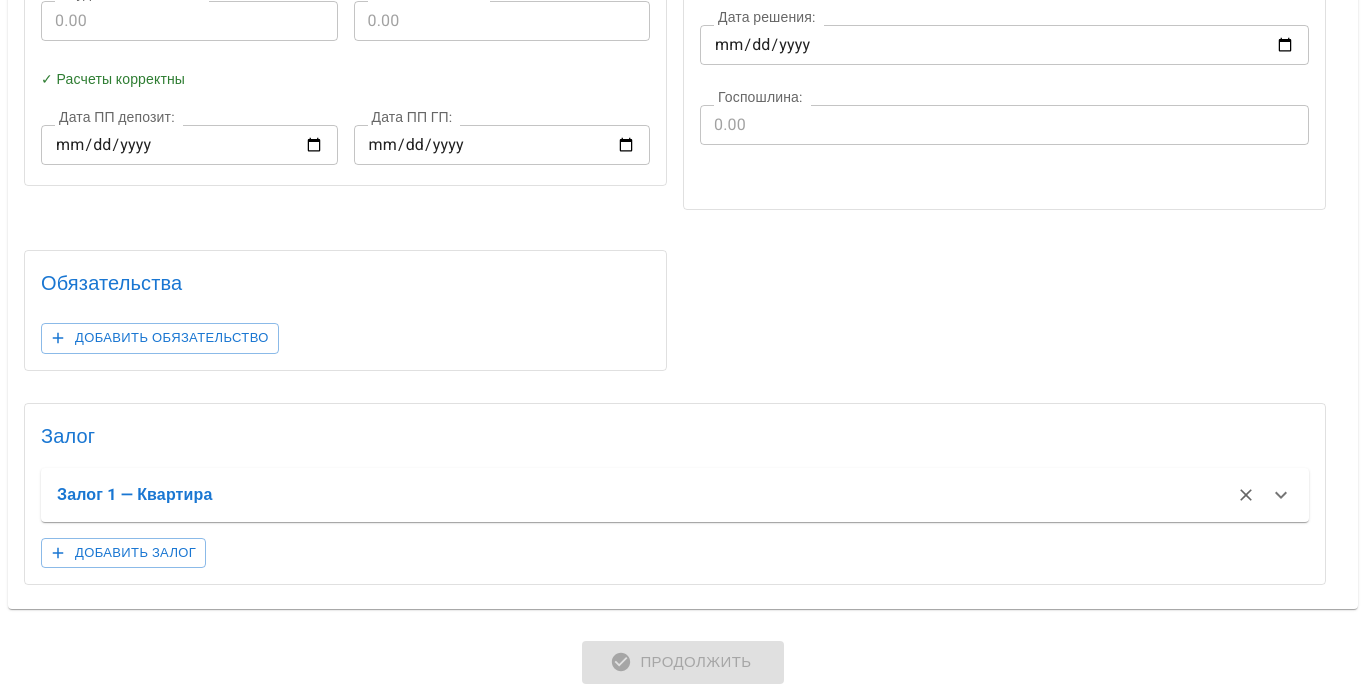
Test case: залоговый акт принятия идёт за составом залога › удаление последней карточки возвращает «Без залога» и снимает залоговый акт
The image size is (1366, 684).
(page scrolled)
Step 1. Click the button named "Удалить залог" → (1246, 494), box top-left (1231, 480), bottom-right (1261, 510)
(page scrolled)
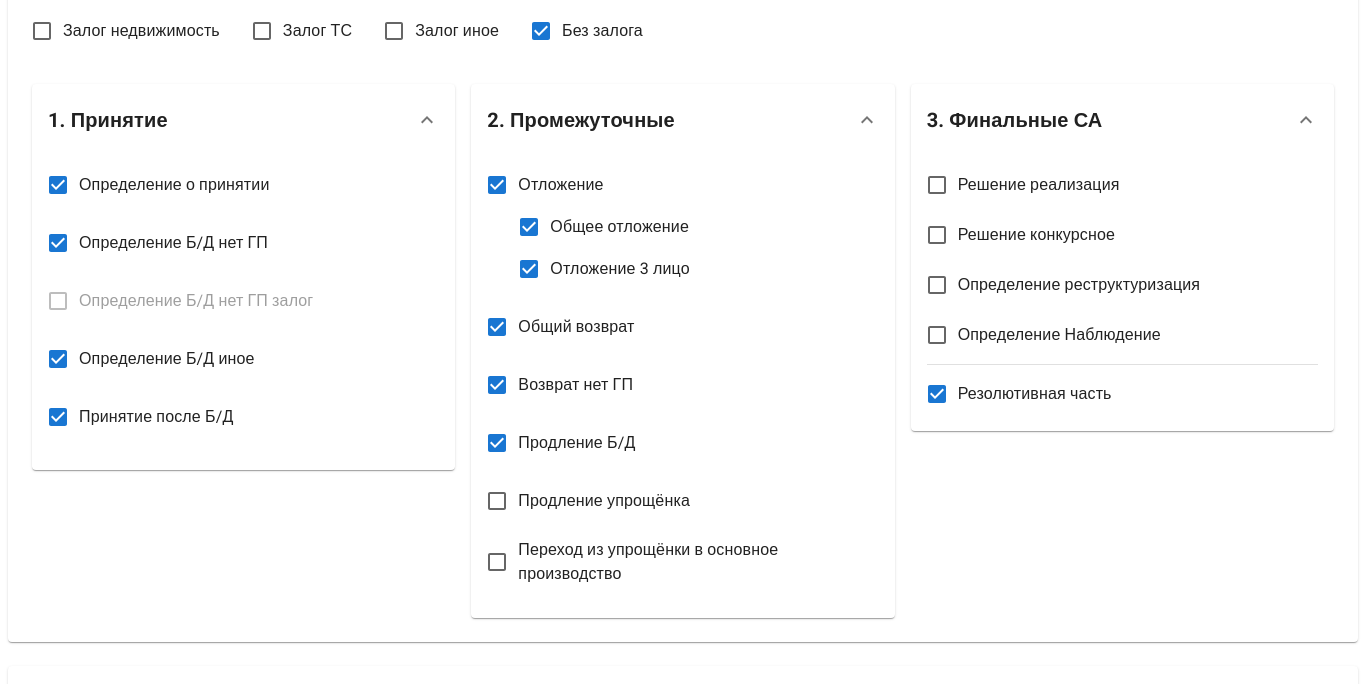
Expected: the checkbox labelled "Определение Б/Д нет ГП залог" is not checked, top-left (46, 289), bottom-right (313, 313)
Expected: the checkbox labelled "Без залога" is checked, top-left (529, 19), bottom-right (643, 43)
Expected: the checkbox labelled "Залог недвижимость" is not checked, top-left (30, 19), bottom-right (220, 43)
